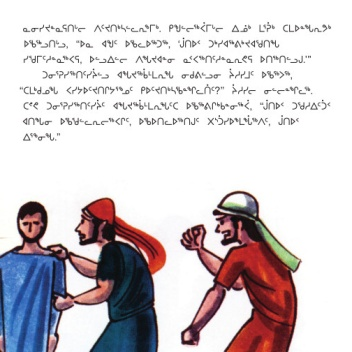inuktitut: (18, 82, 315, 98), (20, 20, 332, 35), (20, 97, 332, 112), (21, 112, 301, 128), (19, 50, 313, 65), (40, 67, 294, 81), (19, 38, 281, 48), (20, 128, 64, 144)
